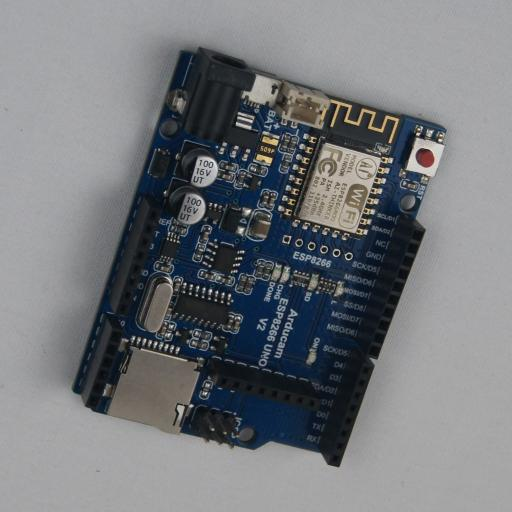Arduino Uno Camera Shield: (72, 47, 446, 467)
